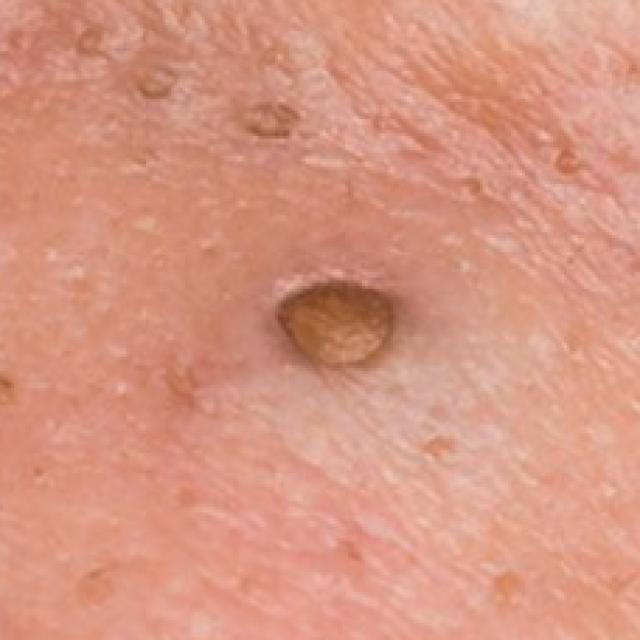blackhead: (279, 282, 391, 366), (242, 101, 302, 142), (76, 569, 114, 613), (73, 23, 116, 61), (162, 366, 202, 406), (135, 66, 176, 101), (424, 434, 458, 467), (495, 569, 524, 607), (556, 148, 584, 178), (130, 146, 159, 172), (173, 486, 201, 511), (7, 25, 33, 51), (344, 543, 366, 569), (0, 370, 13, 405), (461, 180, 484, 197), (262, 48, 283, 66), (30, 463, 47, 482)
